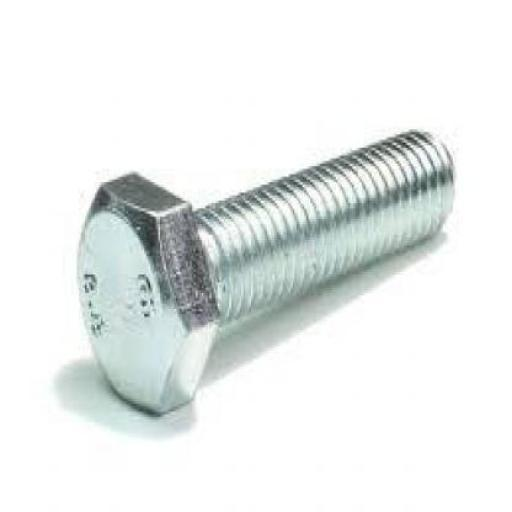Bolt: (76, 128, 456, 415)
